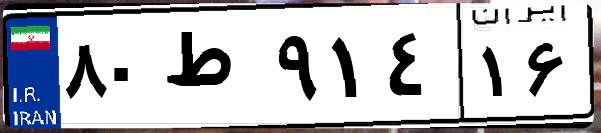0: (110, 28, 158, 98)
1: (330, 28, 385, 110), (475, 38, 525, 113)
4: (385, 28, 445, 110)
6: (525, 38, 570, 115)
8: (57, 26, 110, 100)
9: (270, 28, 330, 110)
ط: (158, 20, 270, 120)
